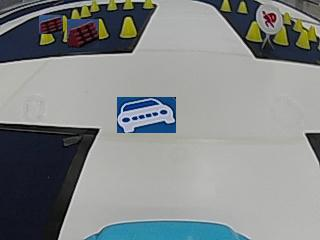thief: (256, 3, 283, 32)
